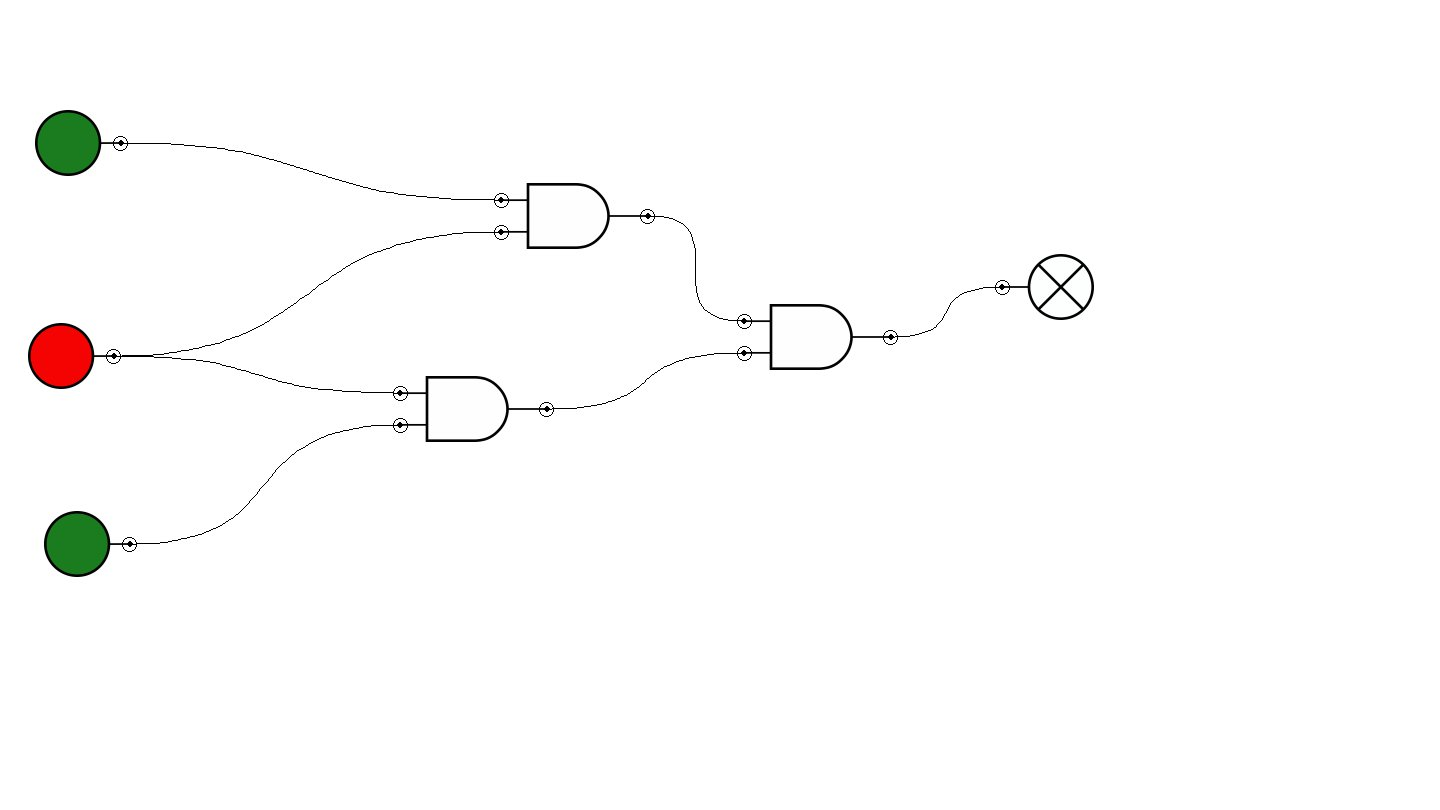and: (737, 304, 898, 370), (494, 183, 655, 249), (393, 376, 554, 442)
bulb: (995, 254, 1094, 320)
switch_False: (28, 323, 121, 389)
switch_True: (35, 110, 128, 176), (44, 511, 137, 577)
